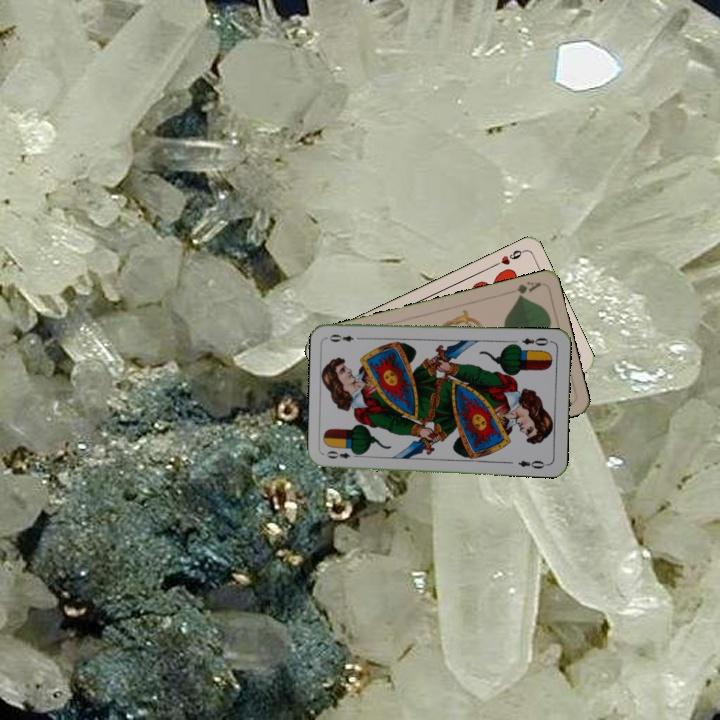EO: (518, 333, 554, 349), (322, 447, 362, 461)
GA: (512, 278, 543, 301)
H9: (489, 246, 527, 270)
